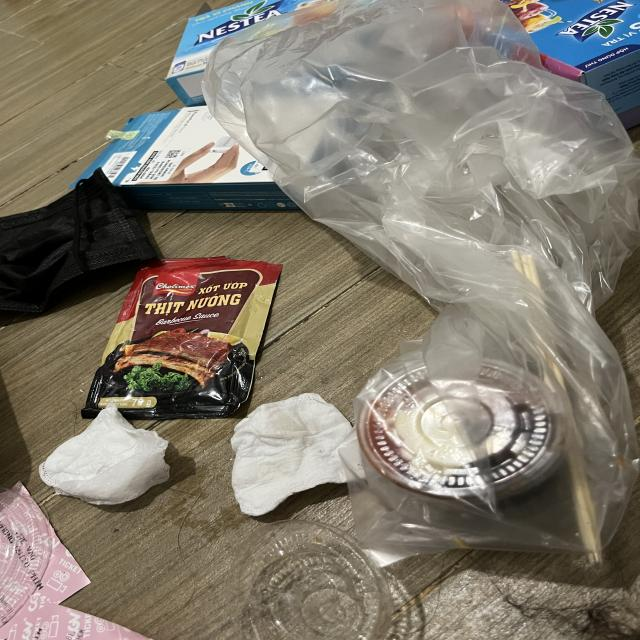cardboard box: (73, 105, 302, 212), (164, 0, 332, 106), (503, 0, 640, 117)
lid: (242, 517, 386, 640)
mask: (0, 169, 164, 325)
napkin: (230, 394, 364, 518), (38, 402, 170, 506)
paper: (0, 475, 170, 640)
snack package: (78, 255, 282, 417)
trash bag: (200, 0, 640, 562)
